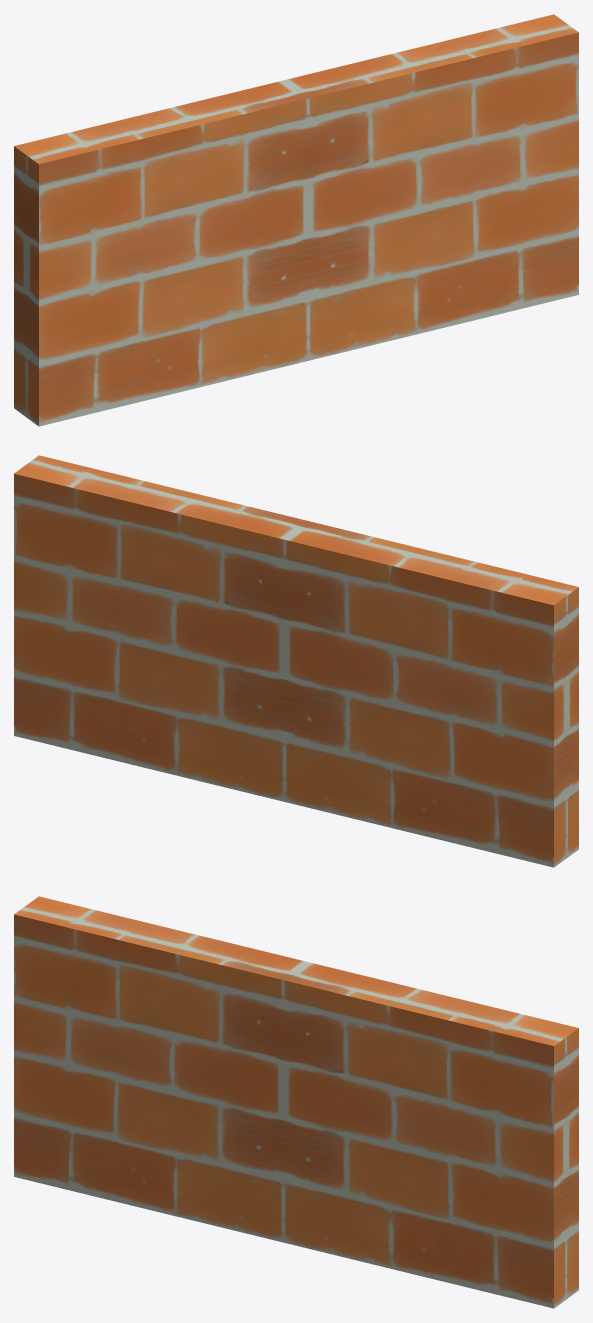
Rendered from Half_Brick_Wall_04.fbx.
3 renders of one model, top to bottom at view 1: azimuth 30°, elevation 25°; view 2: azimuth 150°, elevation 25°; view 3: azimuth 330°, elevation 25°, orthographic.
Visible parts, largest first — view 1: Half_Brick_Wall_04; view 2: Half_Brick_Wall_04; view 3: Half_Brick_Wall_04.
Boxes of the visible parts, x1,y1,x2,y2 form: Half_Brick_Wall_04: [14, 14, 578, 426]; Half_Brick_Wall_04: [14, 455, 578, 867]; Half_Brick_Wall_04: [14, 896, 578, 1308].
Bounding box in the file's own units: 250 × 116 × 20.
